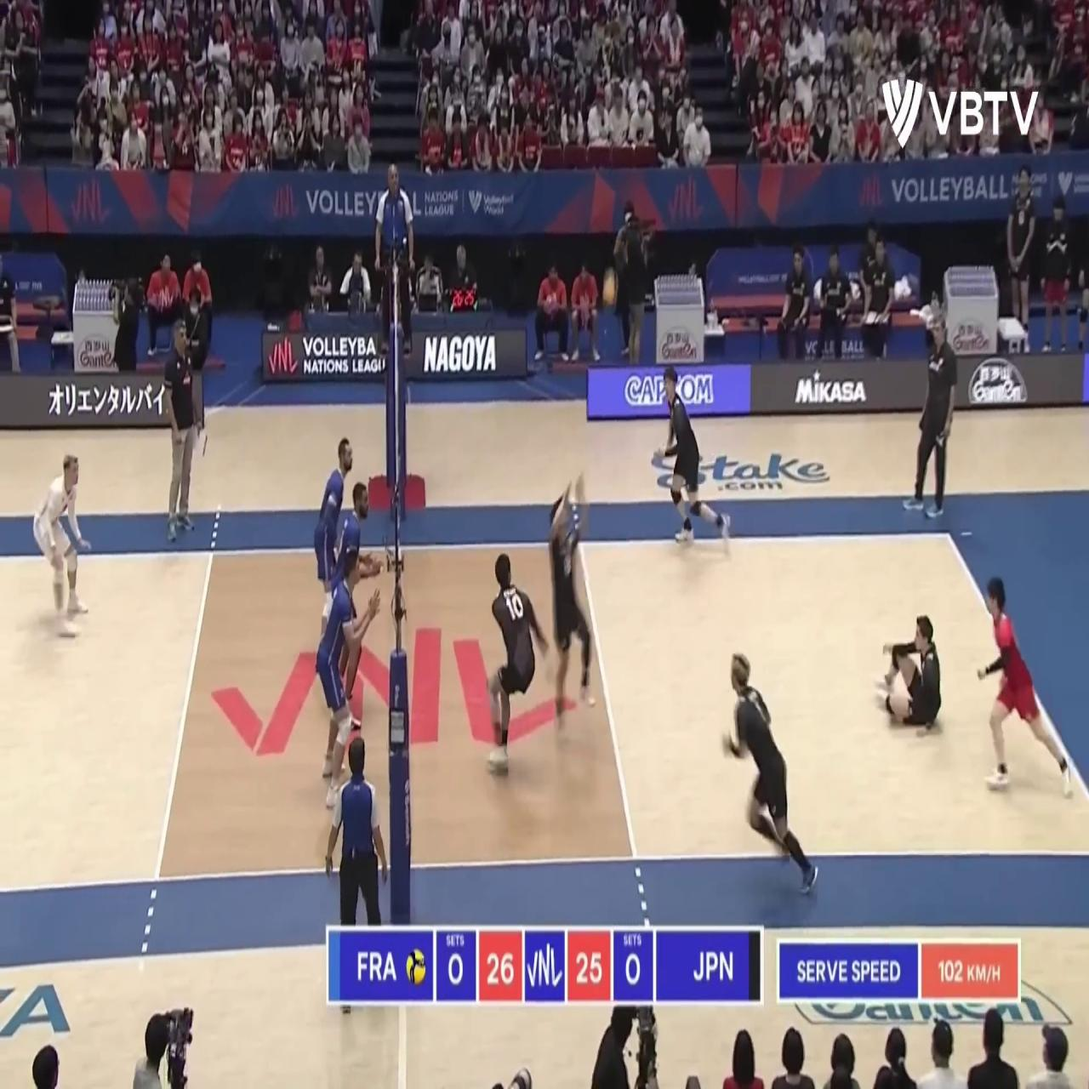ball: (602, 269, 617, 304)
